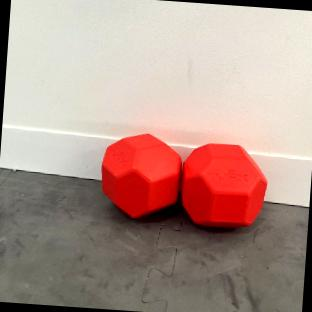V5_RED: (181, 142, 266, 227), (101, 133, 180, 217)
